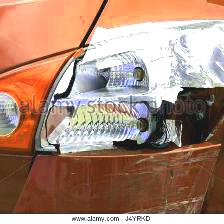head_lamp: (39, 39, 219, 164)
